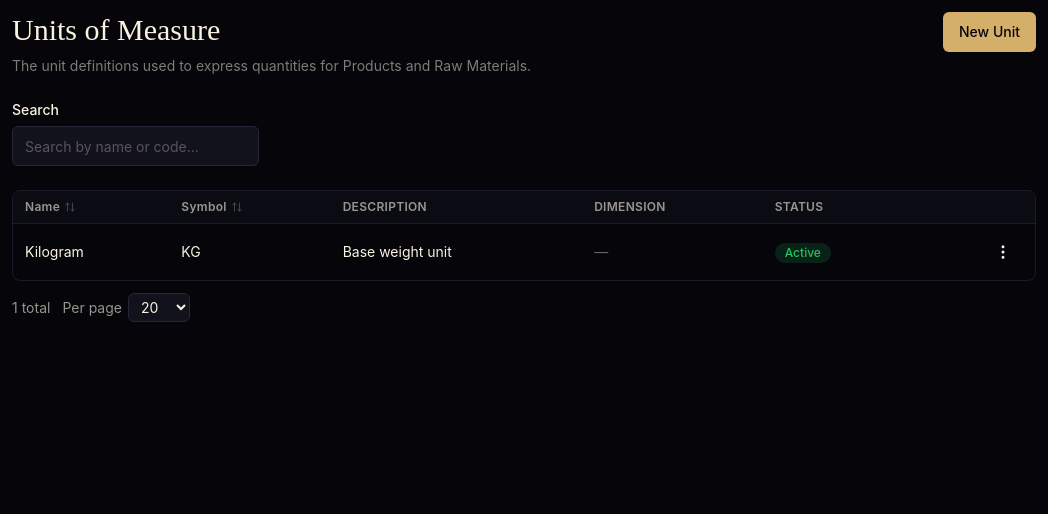
Test: UnitsOfMeasurePage › rejects a dimension entered without a conversion factor before submitting
Expected: the text "Kilogram" is shown, [13,224,169,280]
Click the button "New Unit": (990, 32) [943,12,1036,52]
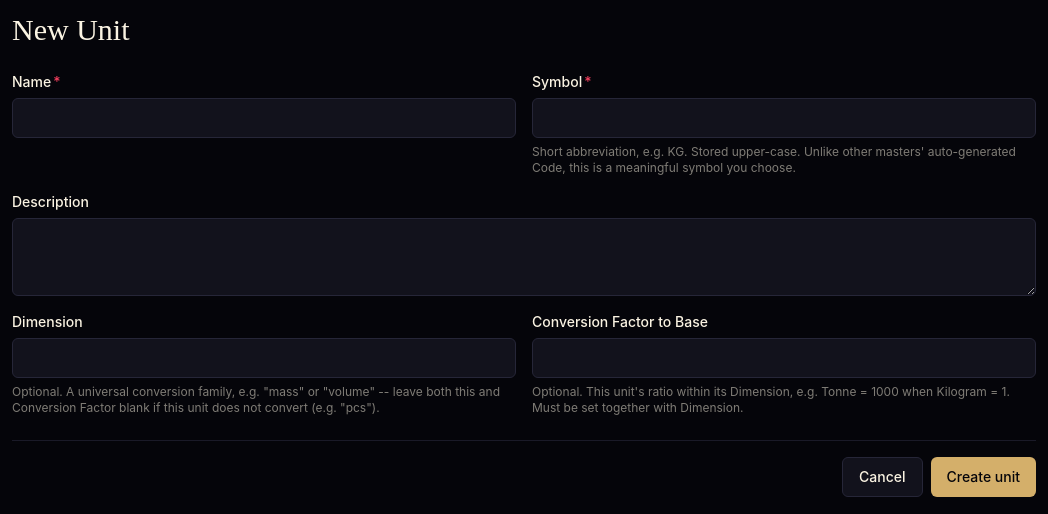
In the field labelled "Name": (264, 118) [12,98,516,138], type "Tonne"
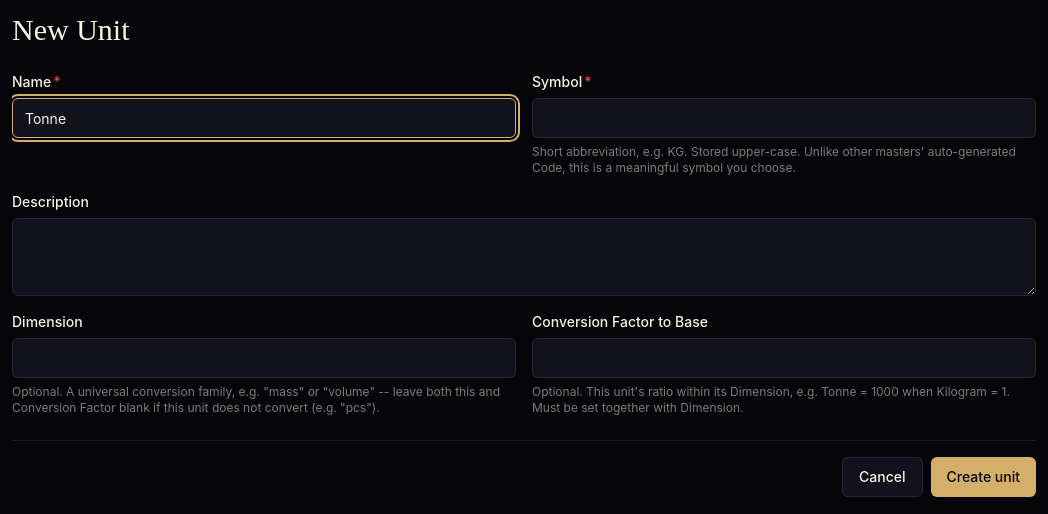
In the field labelled "Symbol": (784, 118) [532,98,1036,138], type "TON"
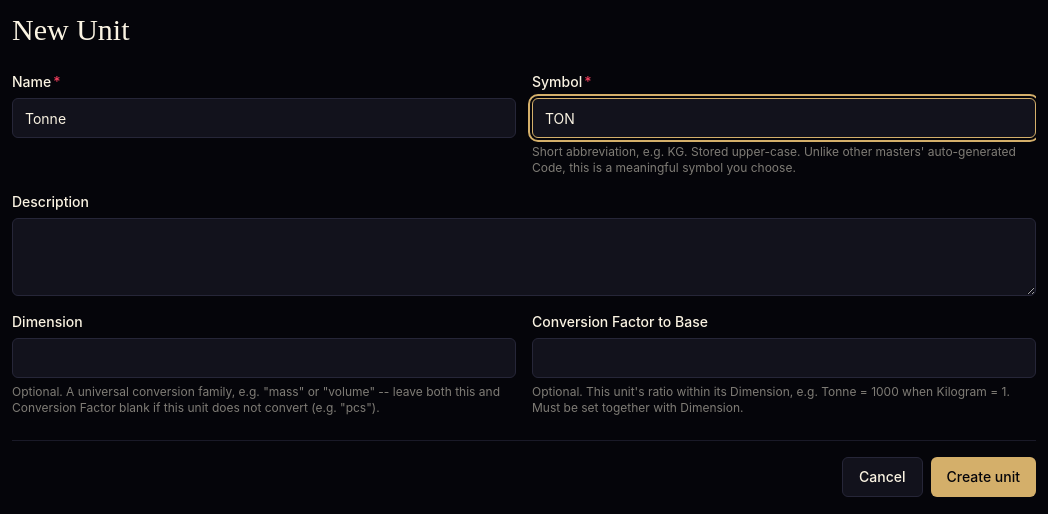
In the field labelled "Dimension": (264, 358) [12,338,516,378], type "mass"
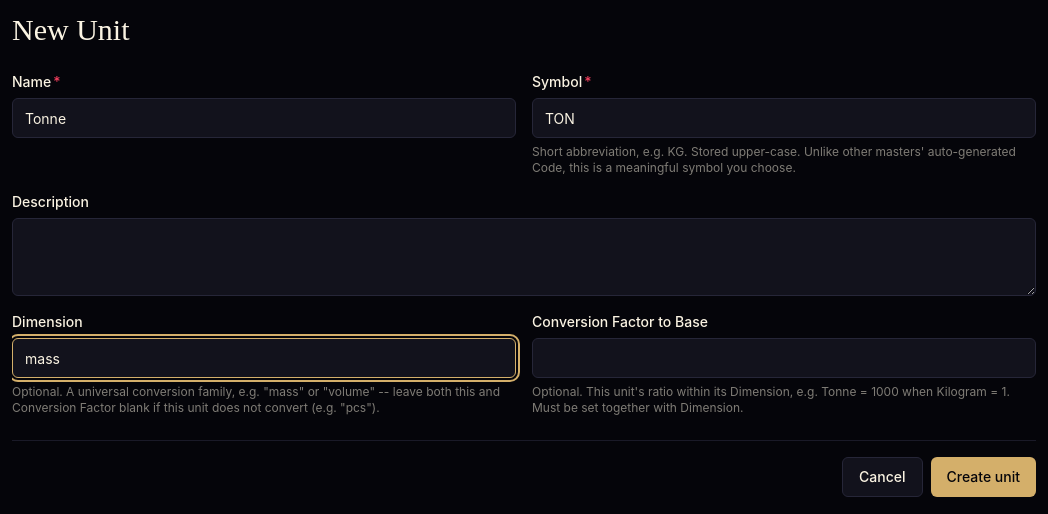
Click the button "Create unit": (983, 477) [930,457,1036,497]
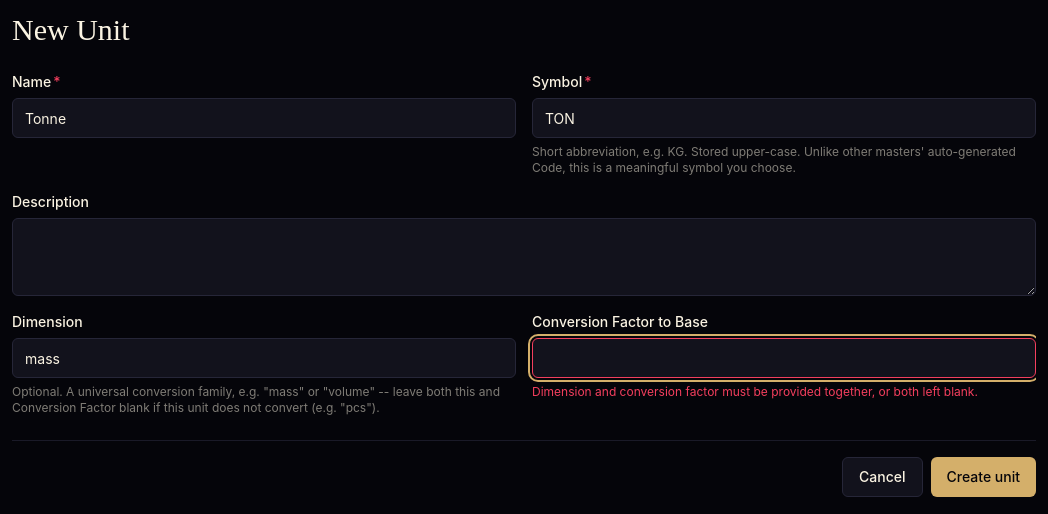
Expected: the text "Dimension and conversion factor must be provided together, or both left blank." is shown, [532,384,1036,400]
